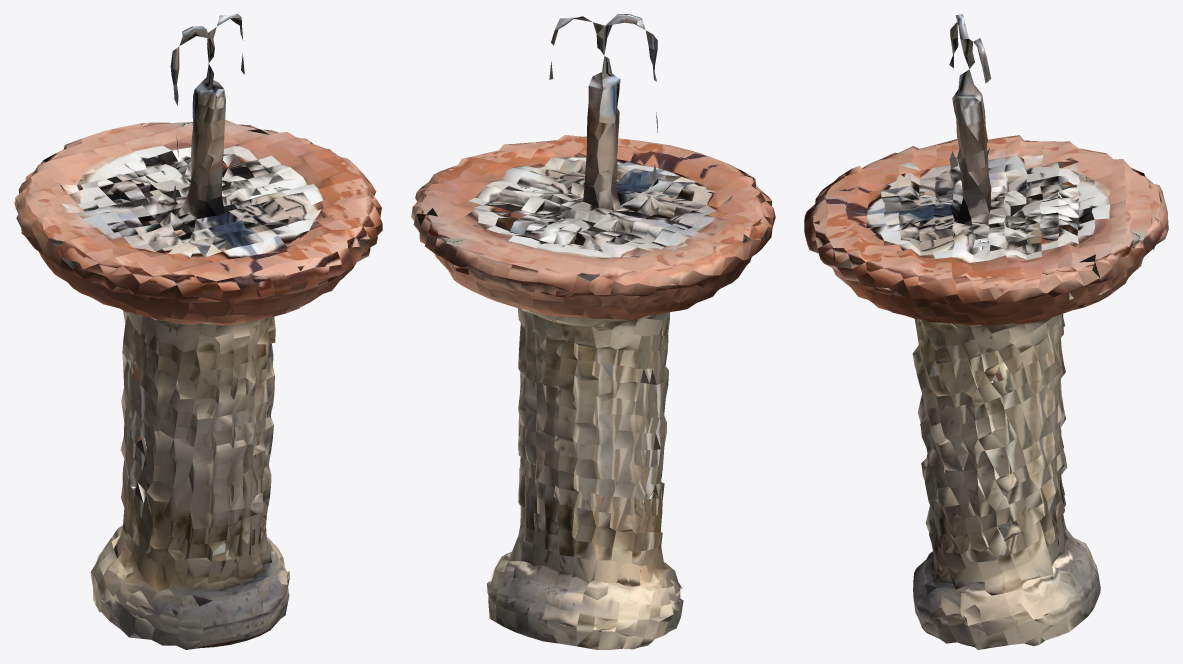
The model's file is fontanella.glb.
3 views of the same model, side by side, from view 1: azimuth 30°, elevation 25°; view 2: azimuth 150°, elevation 25°; view 3: azimuth 270°, elevation 25° (orthographic). The views are drawn at different scales.
Visible parts, largest first — view 1: tmprn26qara.obj; view 2: tmprn26qara.obj; view 3: tmprn26qara.obj.
Boxes of the visible parts, bbox=[...] form: tmprn26qara.obj: bbox=[14, 14, 382, 649]; tmprn26qara.obj: bbox=[411, 14, 775, 649]; tmprn26qara.obj: bbox=[804, 14, 1168, 649].
Bounding box in the file's own units: 1.04 × 1.93 × 1.09.
Materials: 1 (1 with a texture image).
